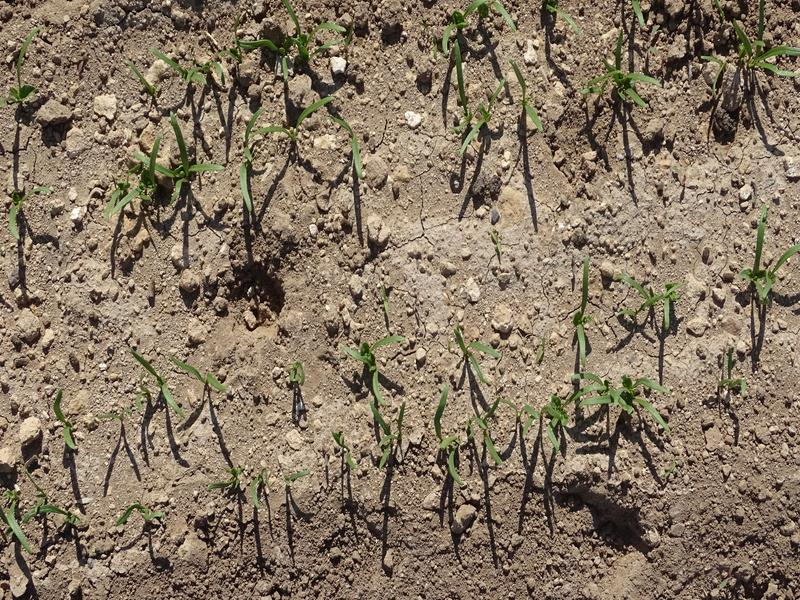Espinaca: (165, 11, 347, 90), (523, 366, 674, 449), (105, 120, 225, 221), (444, 55, 545, 149), (276, 100, 368, 176), (713, 17, 797, 85), (133, 354, 231, 411), (740, 213, 791, 306), (7, 485, 79, 549), (427, 1, 520, 49), (438, 413, 505, 479), (219, 466, 317, 504), (593, 59, 659, 111), (617, 276, 683, 328), (347, 330, 399, 396), (239, 113, 266, 221), (369, 403, 412, 465), (573, 256, 597, 356), (453, 328, 496, 380), (54, 396, 88, 442), (121, 496, 165, 530)
